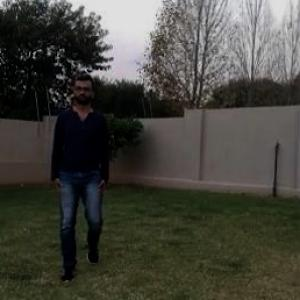follow: (54, 72, 103, 268)
